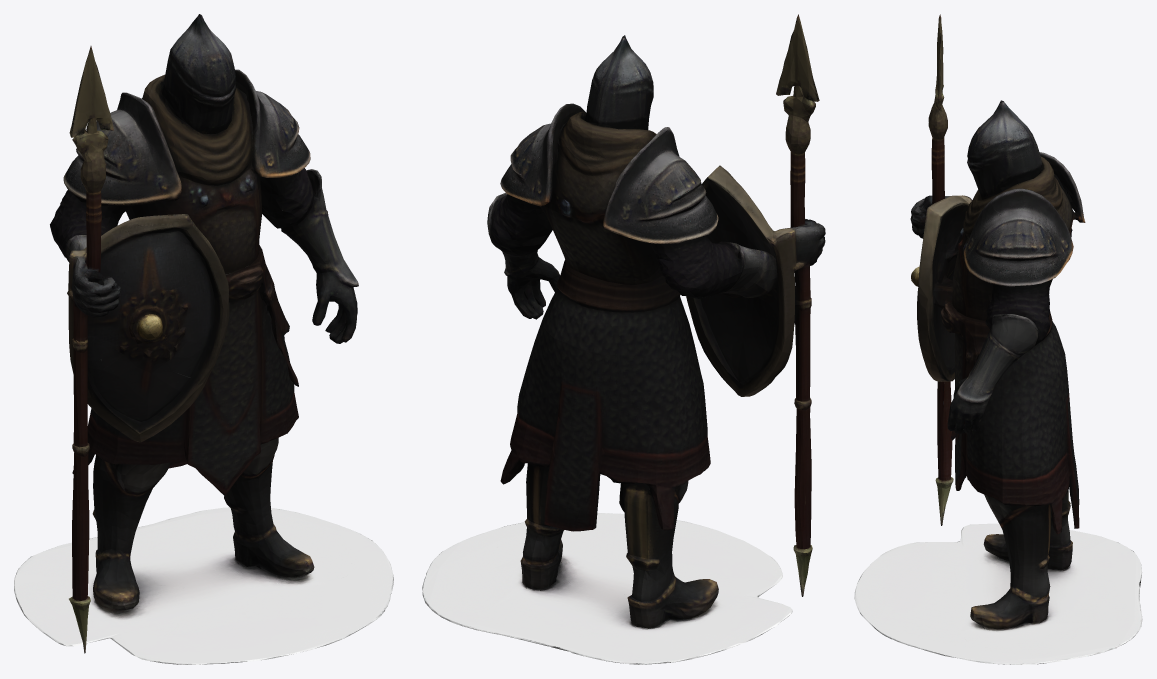
The model's file is class_guardian.glb.
3 renders of one model, left to right at view 1: azimuth 30°, elevation 25°; view 2: azimuth 150°, elevation 25°; view 3: azimuth 270°, elevation 25°, orthographic. The views are drawn at different scales.
Visible parts, largest first — view 1: world; view 2: world; view 3: world.
Boxes of the visible parts, <box> form: world: <box>14,14,393,664</box>; world: <box>422,14,825,664</box>; world: <box>854,14,1142,664</box>.
Bounding box in the file's own units: 0.5985 × 1 × 0.5061.
Materials: 1 (1 with a texture image).
